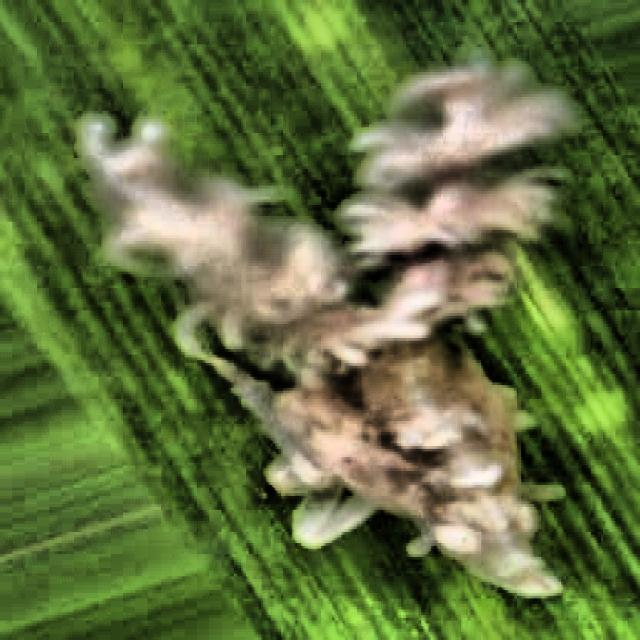Pyrilla-perpusilla: (40, 33, 640, 640)
